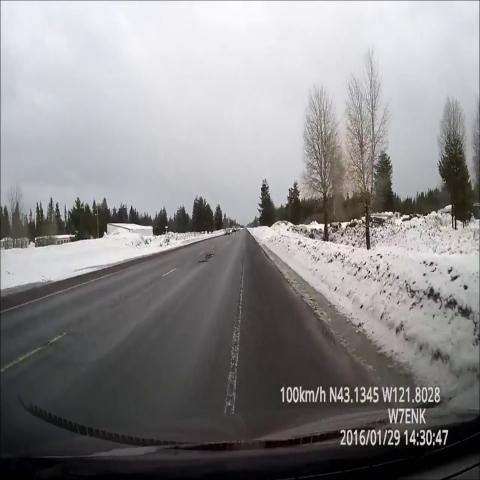pothole: (191, 242, 223, 271)
